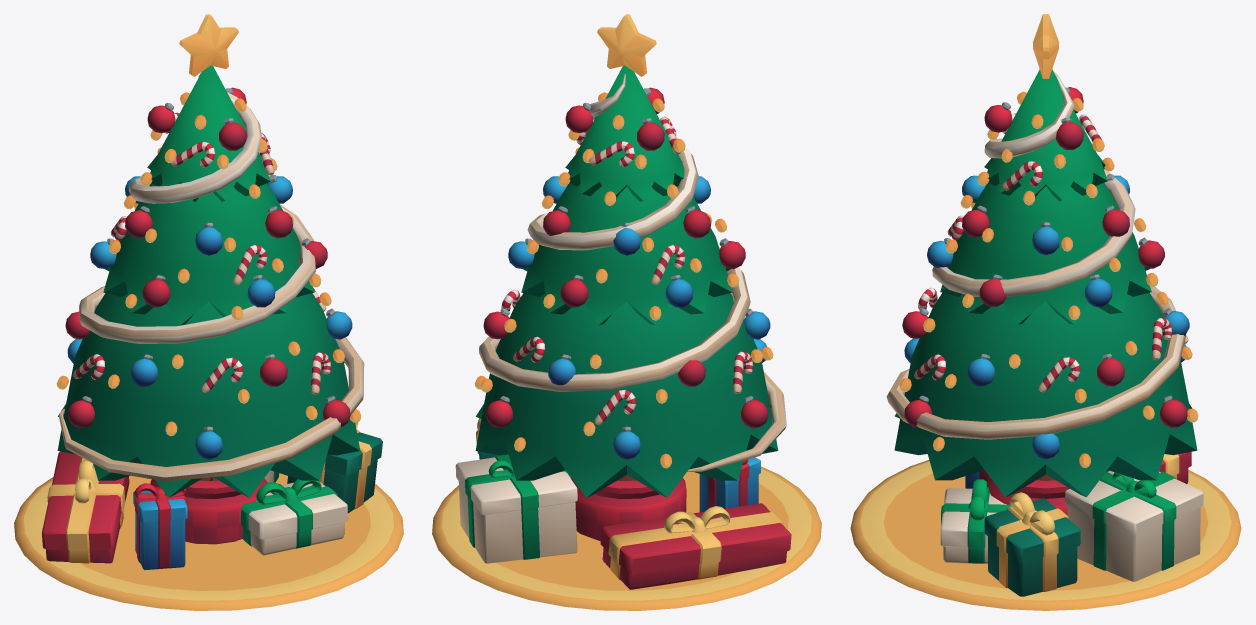
The model's file is christmas_tree_decorated.glb.
3 views of the same model, side by side, from view 1: azimuth 30°, elevation 25°; view 2: azimuth 150°, elevation 25°; view 3: azimuth 270°, elevation 25° (orthographic).
Parts seen in each view (by area): view 1: christmas_tree_decorated; view 2: christmas_tree_decorated; view 3: christmas_tree_decorated.
Part boxes in pixels (bbox=[...]): christmas_tree_decorated: bbox=[14, 14, 403, 610]; christmas_tree_decorated: bbox=[432, 14, 821, 610]; christmas_tree_decorated: bbox=[850, 14, 1241, 610].
Size of the model in its own units: 2.92 by 4.23 by 2.92.
2 materials, 2 textured.
